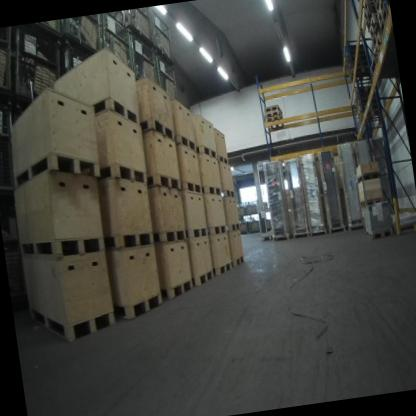pallet: (376, 3, 392, 36), (340, 40, 364, 59), (364, 227, 394, 242), (363, 2, 377, 32), (356, 104, 379, 122), (372, 35, 385, 65), (375, 0, 390, 25), (342, 47, 364, 64), (368, 12, 381, 39), (344, 55, 365, 71), (348, 68, 369, 83), (264, 116, 285, 131), (353, 91, 375, 105), (258, 231, 278, 246), (354, 98, 378, 110), (369, 25, 382, 46), (346, 62, 366, 75), (362, 0, 373, 21), (264, 104, 284, 115), (373, 0, 386, 16), (264, 110, 282, 121), (353, 85, 374, 94), (373, 0, 382, 7)
stillage: (0, 22, 71, 107), (0, 194, 36, 323), (0, 87, 25, 194), (100, 17, 135, 82), (126, 27, 160, 87), (147, 6, 181, 66), (63, 15, 107, 61), (152, 45, 183, 106), (58, 36, 95, 73), (102, 11, 135, 49), (0, 27, 18, 96), (126, 8, 154, 47), (245, 199, 262, 217), (247, 215, 261, 234), (235, 199, 246, 218), (237, 217, 248, 235), (263, 217, 273, 235), (262, 200, 270, 213)
